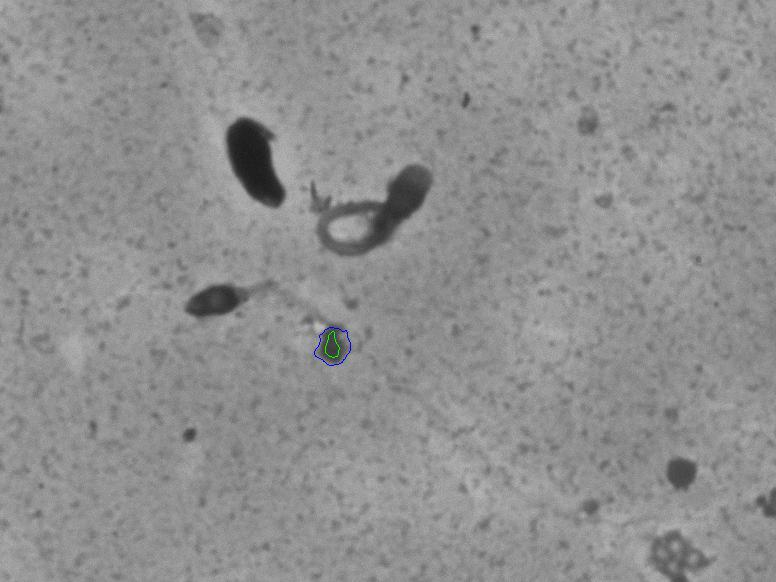Abnormal: (297, 142, 458, 278), (144, 248, 294, 363)
